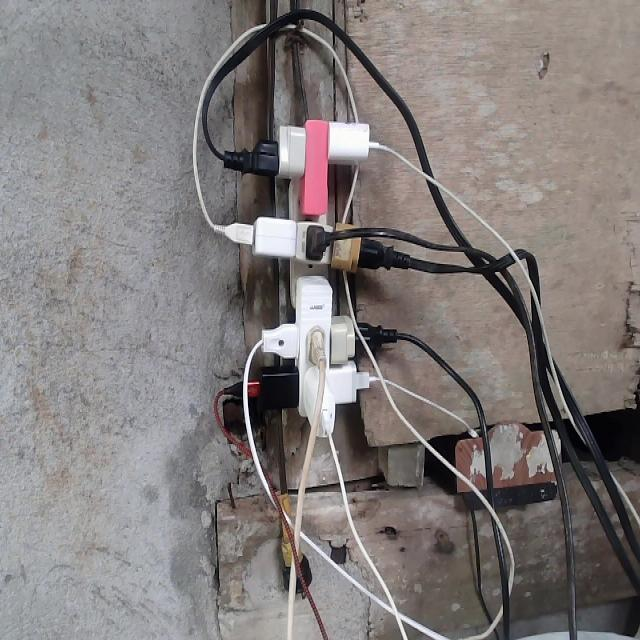-: (242, 120, 384, 444)
